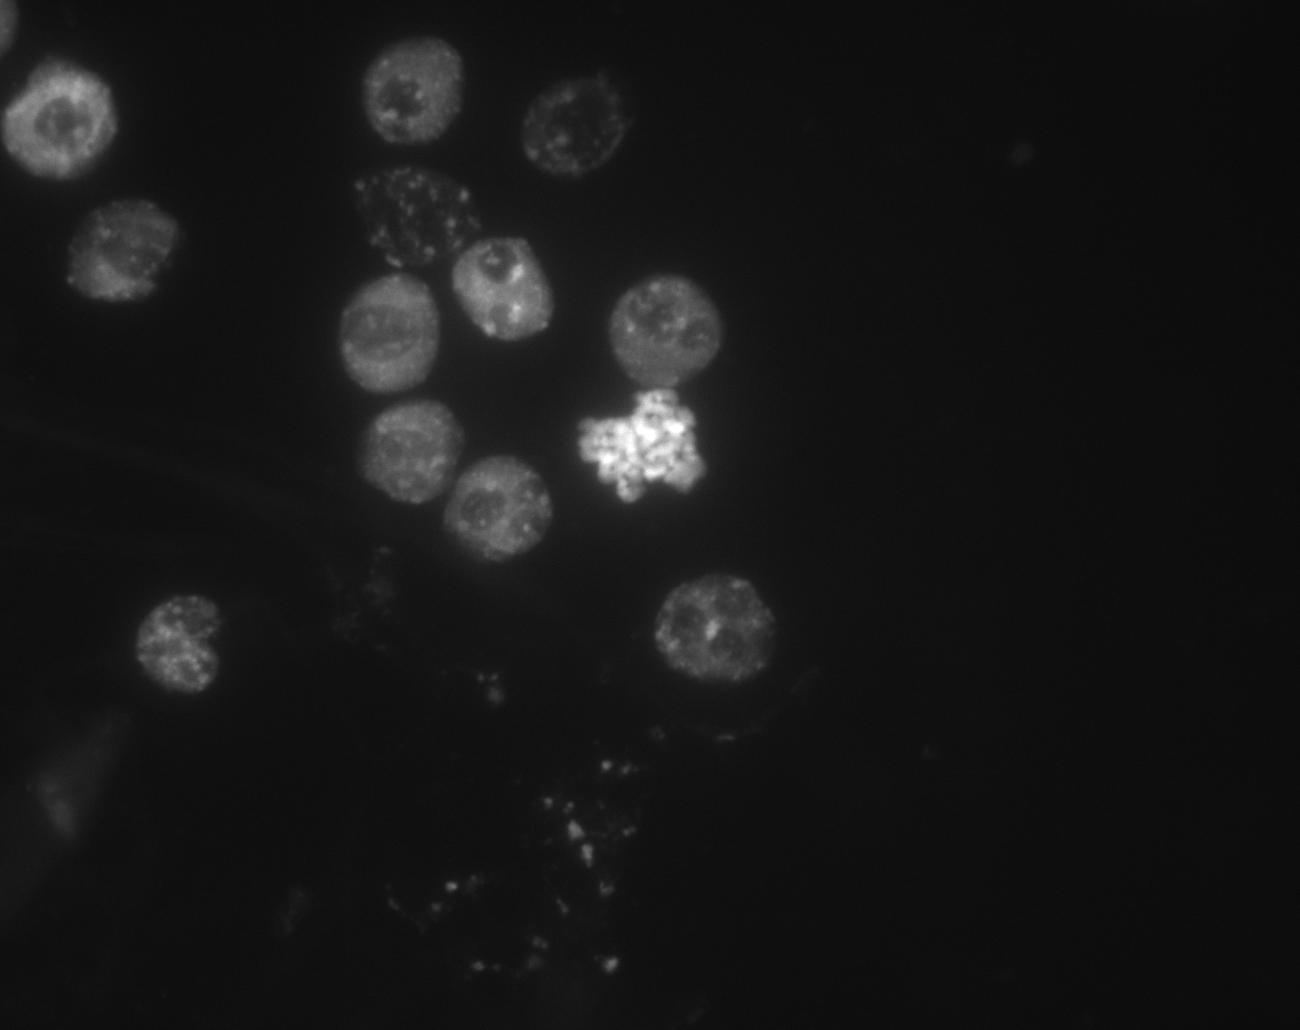Chromosomes: (573, 352, 745, 504)
Others: (622, 541, 812, 714), (334, 205, 516, 348), (334, 388, 515, 526), (304, 263, 476, 402), (52, 170, 204, 325), (100, 570, 259, 718), (9, 32, 158, 188), (357, 149, 513, 290), (376, 430, 541, 562), (343, 31, 489, 176), (603, 270, 744, 417)
